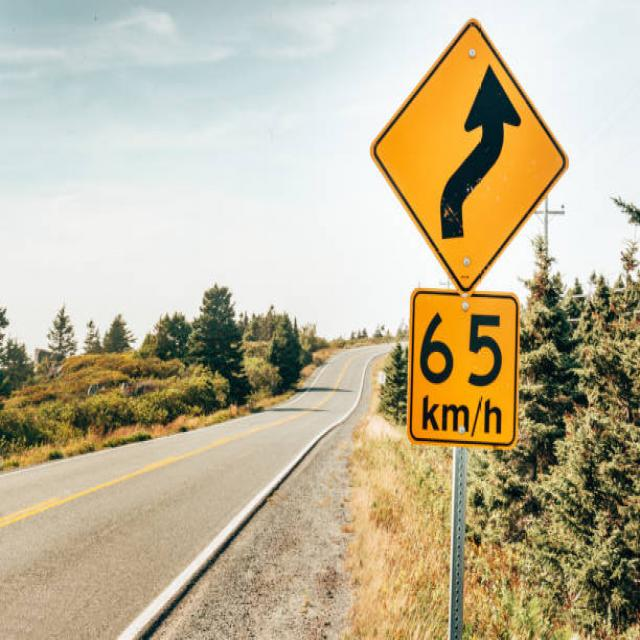left_sharp_curve: (371, 14, 574, 296)
